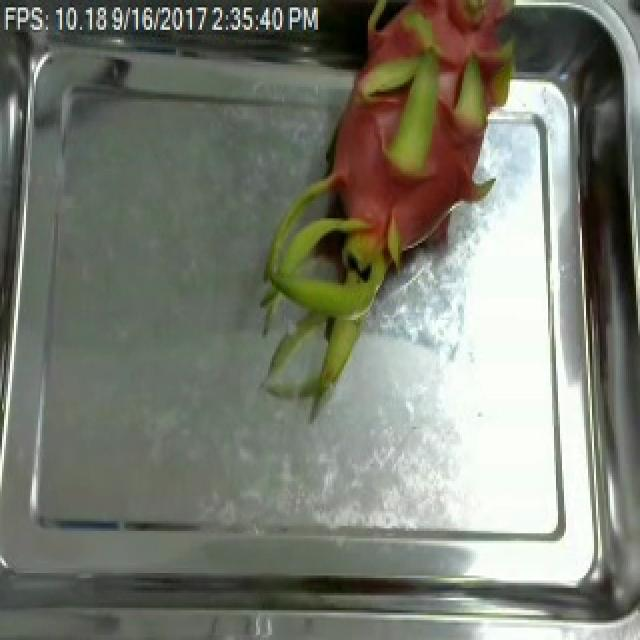fruit: (238, 0, 522, 382)
